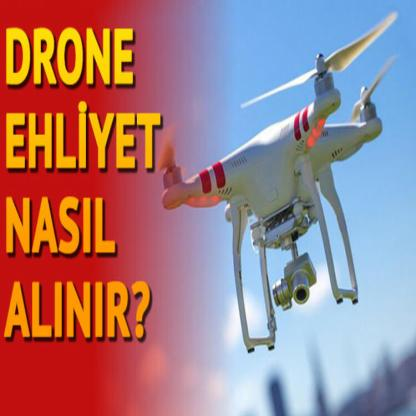drone: (146, 42, 403, 270)
